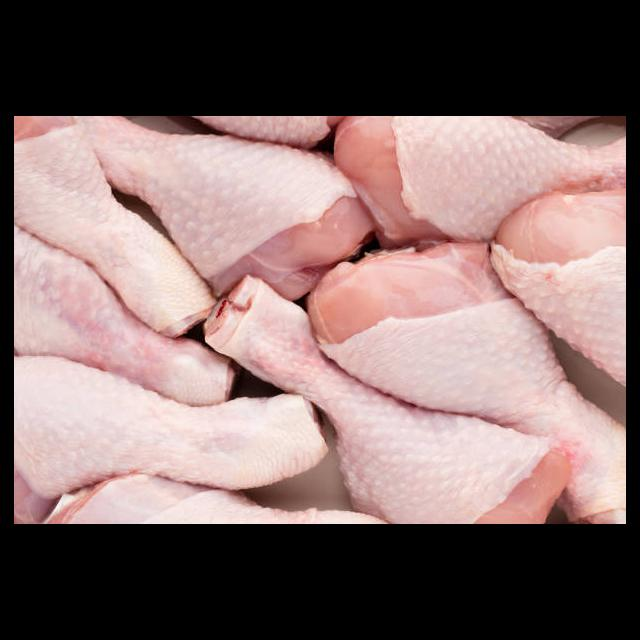chicken: (201, 273, 570, 524), (307, 238, 626, 518), (74, 117, 379, 302), (15, 355, 333, 498), (17, 117, 220, 336), (15, 226, 236, 409), (331, 117, 622, 245), (489, 185, 626, 375)
